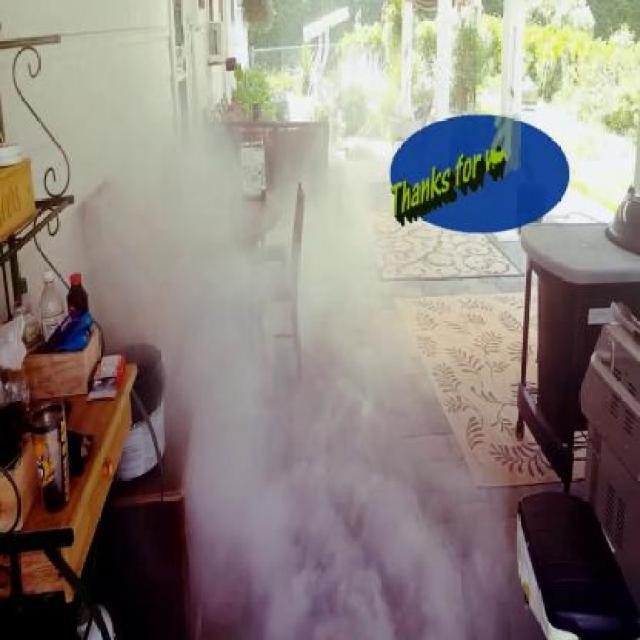smoke: (116, 108, 358, 610)
